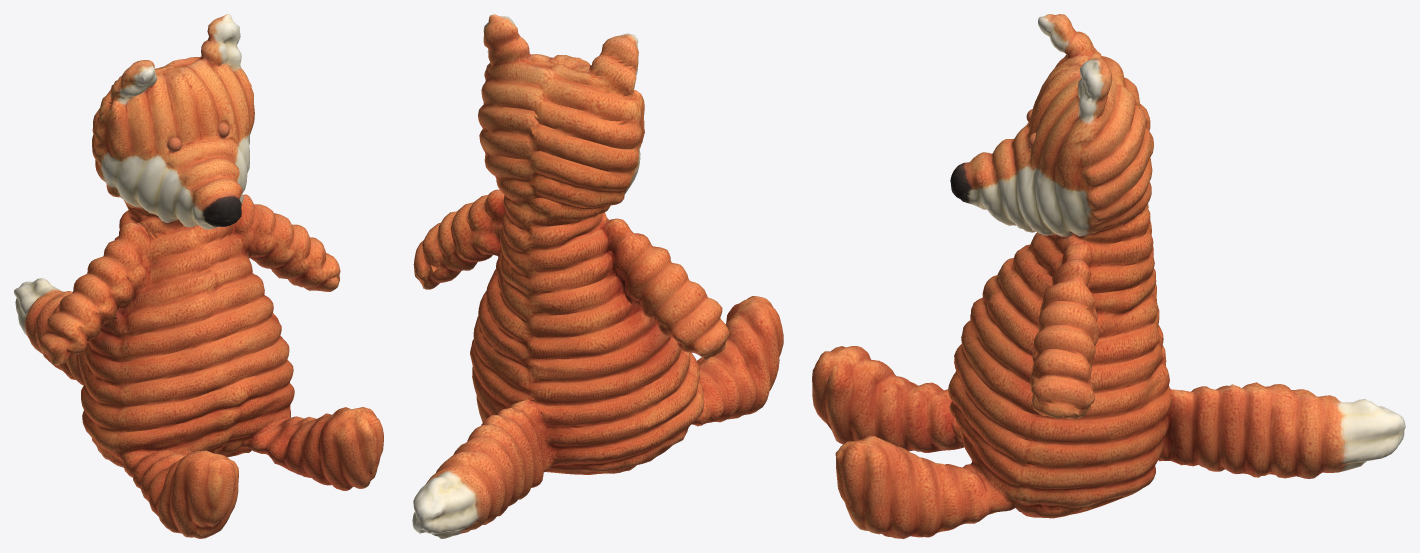
Rendered from fox_toy.glb.
3 renders of one model, left to right at view 1: azimuth 30°, elevation 25°; view 2: azimuth 150°, elevation 25°; view 3: azimuth 270°, elevation 25°, orthographic. The views are drawn at different scales.
Parts seen in each view (by area): view 1: Object_3; view 2: Object_3; view 3: Object_3.
Boxes of the visible parts, box(x1,y1,x2,y2) form: Object_3: box(14, 14, 383, 538); Object_3: box(412, 14, 783, 538); Object_3: box(812, 14, 1405, 538).
Bounding box in the file's own units: 0.4336 × 0.5884 × 0.6818.
Materials: 1 (1 with a texture image).
